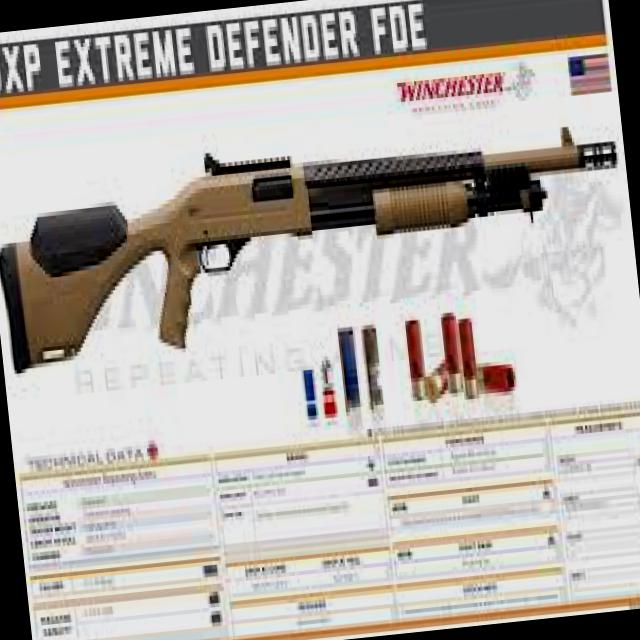long weapon: (0, 115, 621, 397)
